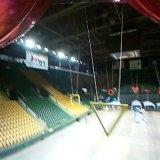Orange_Triangle_Gshape: (132, 87, 140, 93)
Yellow_Square_GShape: (70, 94, 80, 105)
Yellow_Triangle_Gshape: (88, 103, 128, 137)
